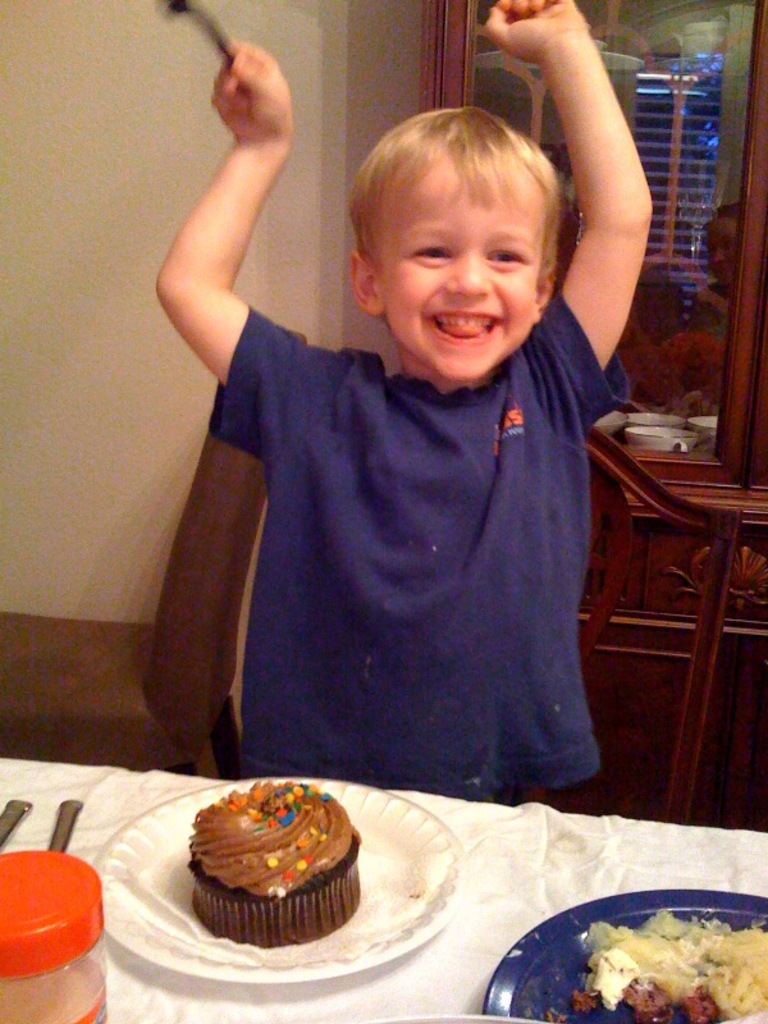cake: (186, 783, 360, 948)
